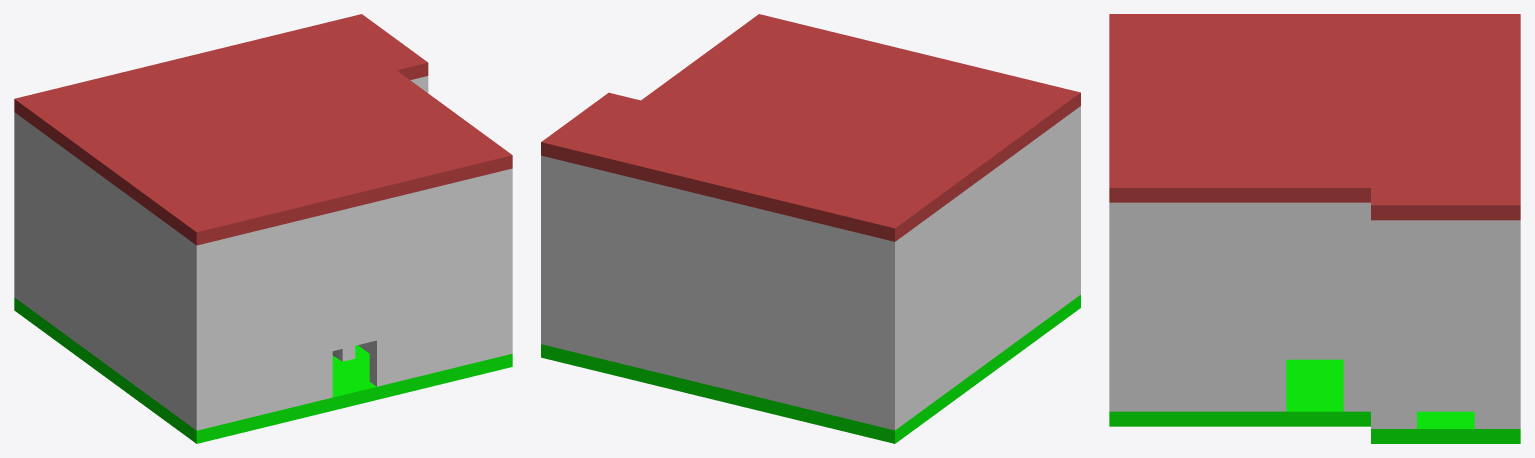
Rendered from room (1).fbx.
3 renders of one model, left to right at view 1: azimuth 30°, elevation 25°; view 2: azimuth 150°, elevation 25°; view 3: azimuth 270°, elevation 25°, orthographic. The views are drawn at different scales.
Visible parts, largest first — view 1: オブジェクト_26, オブジェクト_22, オブジェクト_25, オブジェクト_3, オブジェクト_15, オブジェクト_27, オブジェクト_23, オブジェクト_2; view 2: オブジェクト_26, オブジェクト_24, オブジェクト_25, オブジェクト_17, オブジェクト_3, オブジェクト_27, オブジェクト_23, オブジェクト_12, オブジェクト_2; view 3: オブジェクト_26, オブジェクト_23, オブジェクト_3, オブジェクト_12, オブジェクト_27, オブジェクト_2.
Boxes of the visible parts, box(x1,y1,x2,y2) form: オブジェクト_26: box(14, 22, 512, 245); オブジェクト_22: box(209, 171, 499, 427); オブジェクト_25: box(14, 112, 209, 430); オブジェクト_3: box(109, 14, 428, 222); オブジェクト_15: box(291, 195, 417, 406); オブジェクト_27: box(14, 297, 512, 443); オブジェクト_23: box(500, 168, 512, 356); オブジェクト_2: box(291, 345, 417, 420); オブジェクト_26: box(573, 14, 1080, 241); オブジェクト_24: box(586, 167, 882, 427); オブジェクト_25: box(882, 106, 1080, 430); オブジェクト_17: box(554, 159, 798, 405); オブジェクト_3: box(541, 38, 960, 217); オブジェクト_27: box(573, 294, 1080, 443); オブジェクト_23: box(573, 163, 586, 354); オブジェクト_12: box(541, 155, 553, 347); オブジェクト_2: box(541, 344, 798, 419); オブジェクト_26: box(1109, 14, 1520, 202); オブジェクト_23: box(1109, 202, 1474, 411); オブジェクト_3: box(1109, 66, 1520, 220); オブジェクト_12: box(1371, 220, 1520, 428); オブジェクト_27: box(1109, 359, 1370, 426); オブジェクト_2: box(1371, 411, 1520, 443).
Size of the model in its own units: 5.5 by 3.2 by 5.
